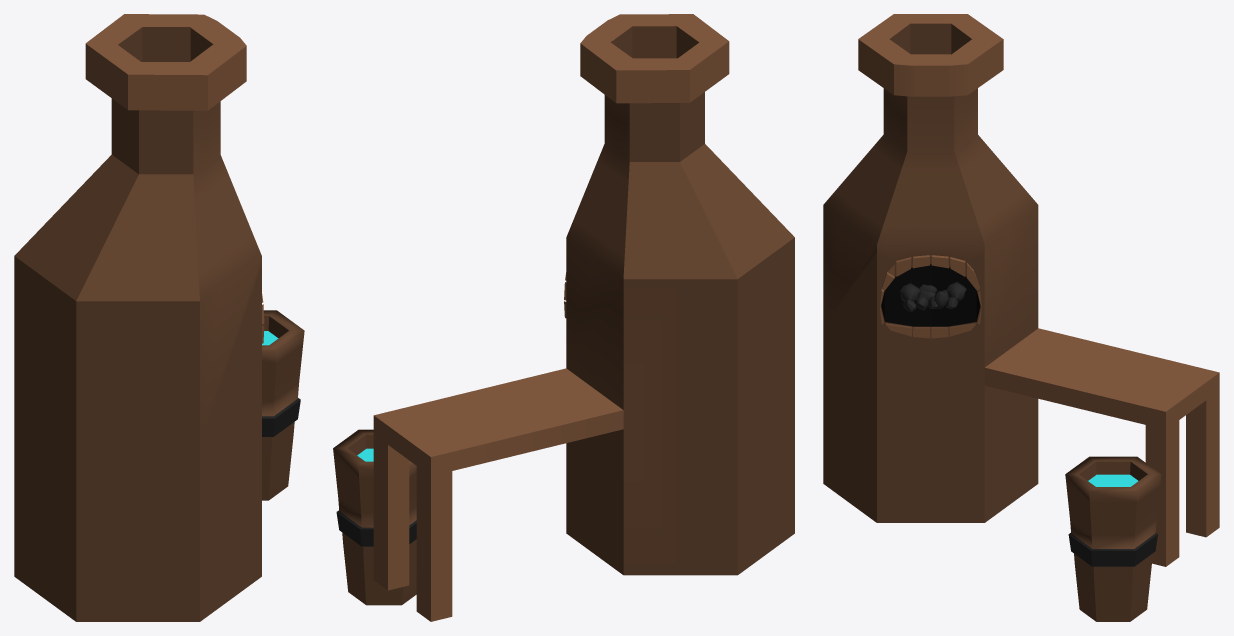
Rendered from furnace.fbx.
3 renders of one model, left to right at view 1: azimuth 30°, elevation 25°; view 2: azimuth 150°, elevation 25°; view 3: azimuth 270°, elevation 25°, orthographic. The views are drawn at different scales.
Parts seen in each view (by area): view 1: Cylinder.001; view 2: Cylinder.001; view 3: Cylinder.001.
Boxes of the visible parts, left/top/right/bottom form: Cylinder.001: left=14, top=14, right=304, bottom=621; Cylinder.001: left=333, top=14, right=794, bottom=621; Cylinder.001: left=823, top=14, right=1219, bottom=621.
Size of the model in its own units: 342 by 527 by 386.
